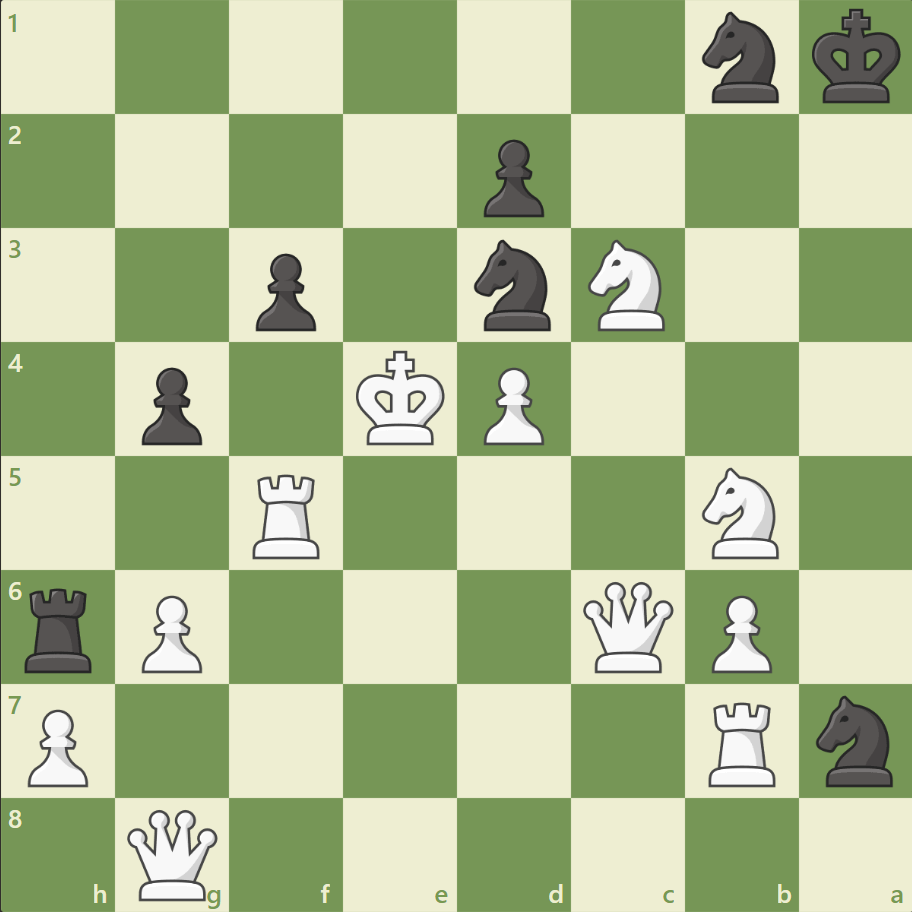K: (351, 344, 451, 452)
N: (692, 461, 789, 564), (579, 234, 676, 337)
P: (20, 700, 95, 791), (701, 586, 776, 677), (133, 586, 208, 677), (474, 359, 549, 450)
Q: (578, 576, 677, 676), (124, 804, 223, 903)
R: (700, 693, 783, 790), (246, 466, 329, 563)
k: (806, 4, 906, 112)
n: (806, 688, 903, 791), (465, 234, 562, 337), (692, 7, 789, 110)
p: (133, 359, 208, 450), (247, 246, 322, 337), (474, 132, 549, 223)
r: (19, 579, 102, 676)
